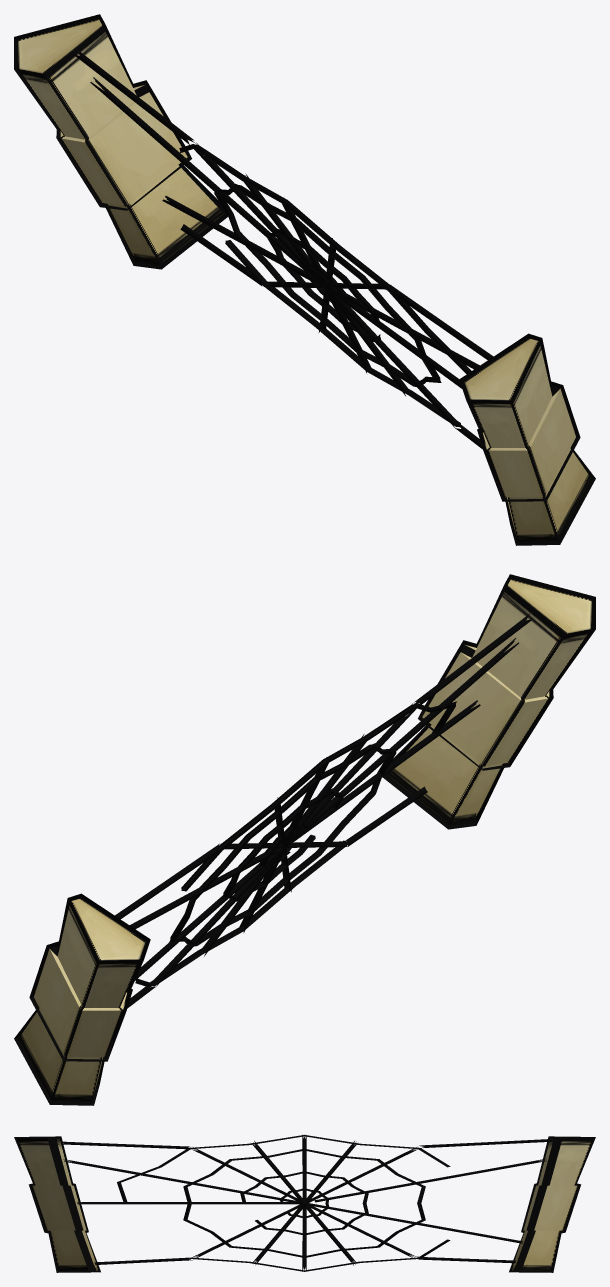
File: bouncy_wall_state3.FBX
The picture shows the model from 3 angles, top to bottom: view 1: azimuth 30°, elevation 25°; view 2: azimuth 150°, elevation 25°; view 3: azimuth 270°, elevation 25°; orthographic projection. The views are drawn at different scales.
Visible parts, largest first — view 1: Torus008, Box104; view 2: Torus008, Box104; view 3: Torus008, Box104.
Part boxes in pixels (x1=…): Torus008: x1=17, y1=19, x2=591, y2=541; Box104: x1=14, y1=14, x2=595, y2=545; Torus008: x1=18, y1=579, x2=592, y2=1101; Box104: x1=14, y1=574, x2=595, y2=1105; Torus008: x1=16, y1=1134, x2=593, y2=1271; Box104: x1=14, y1=1136, x2=595, y2=1272.
Size of the model in its own units: 0.4285 by 0.5545 by 2.17.
2 materials, 1 textured.
